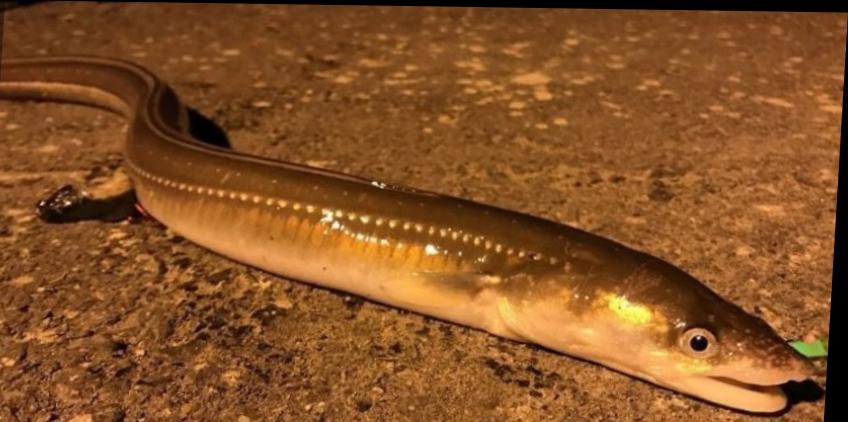fish: (1, 57, 821, 410)
